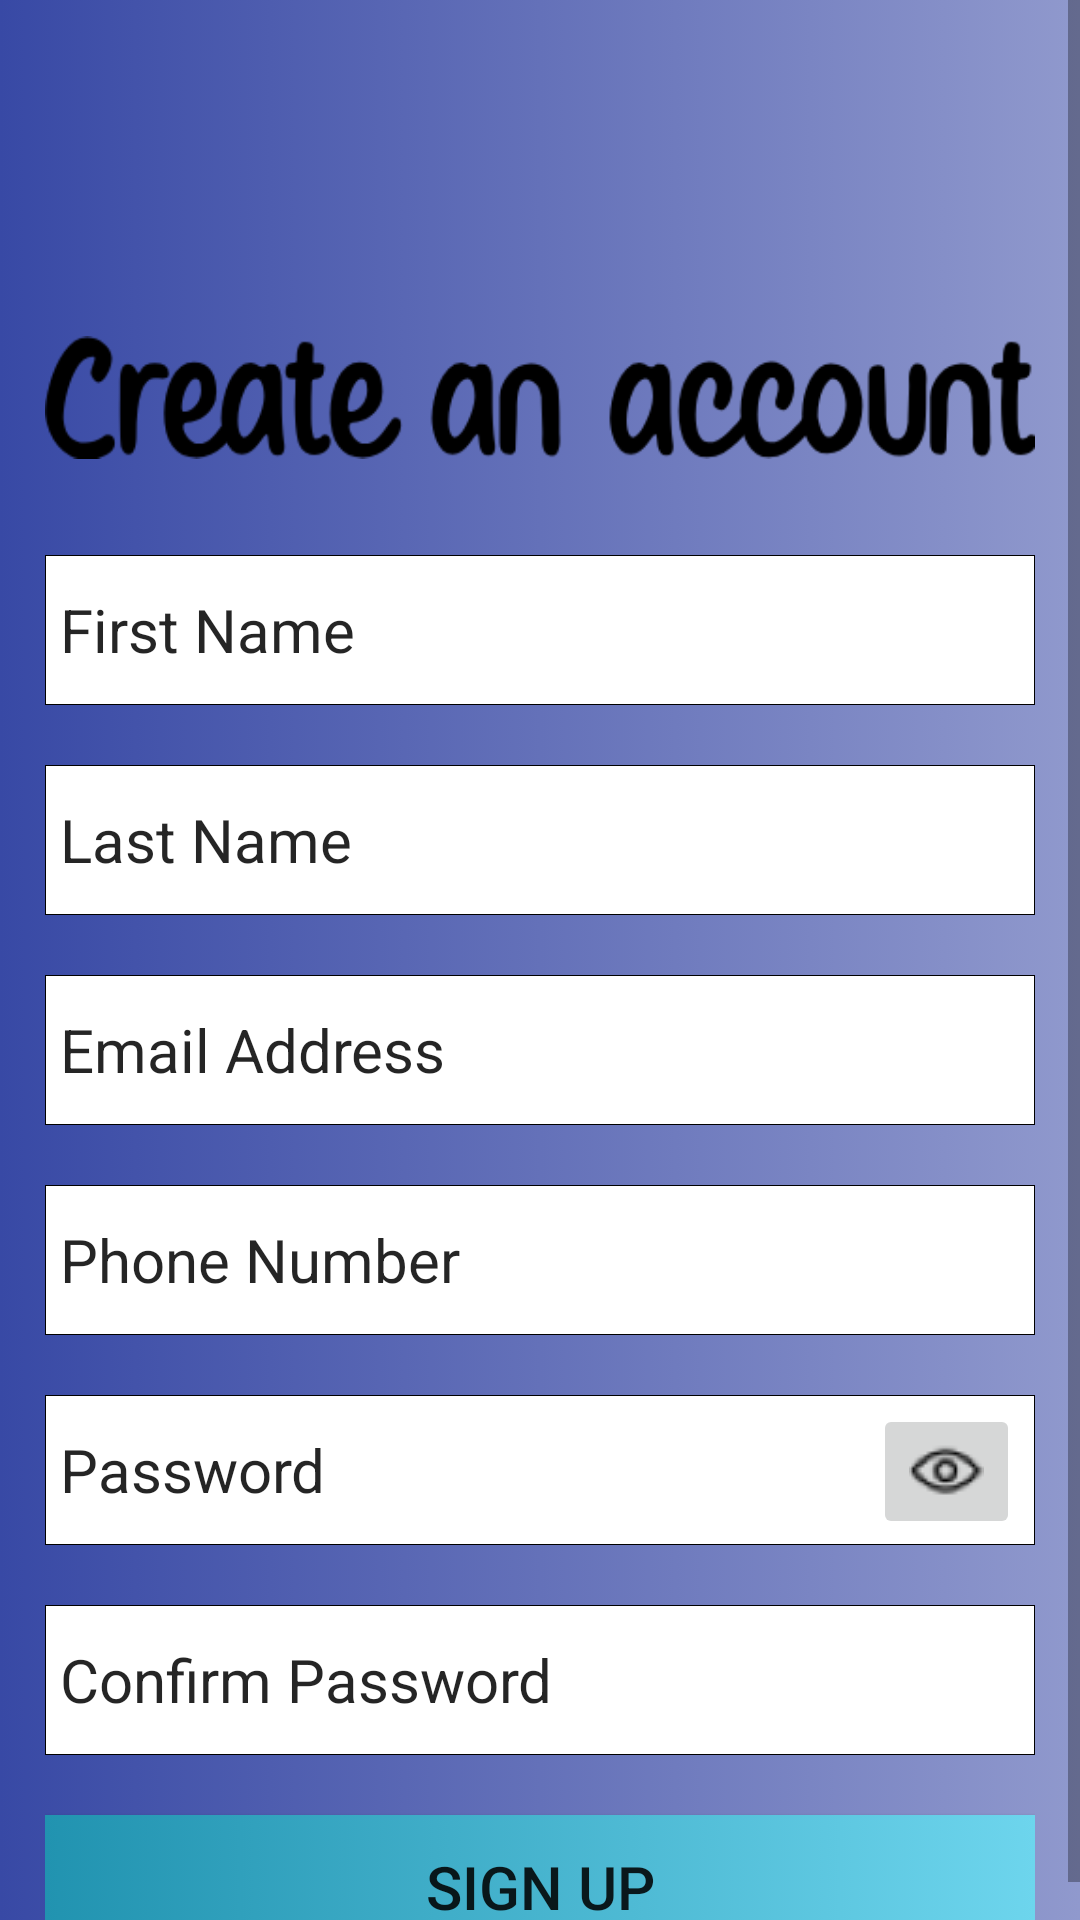

Screen size 1080 x 1920. Icon name, then its box in pixels as (x1, y1, x2, y2):
view: (885, 1422, 1008, 1521)
